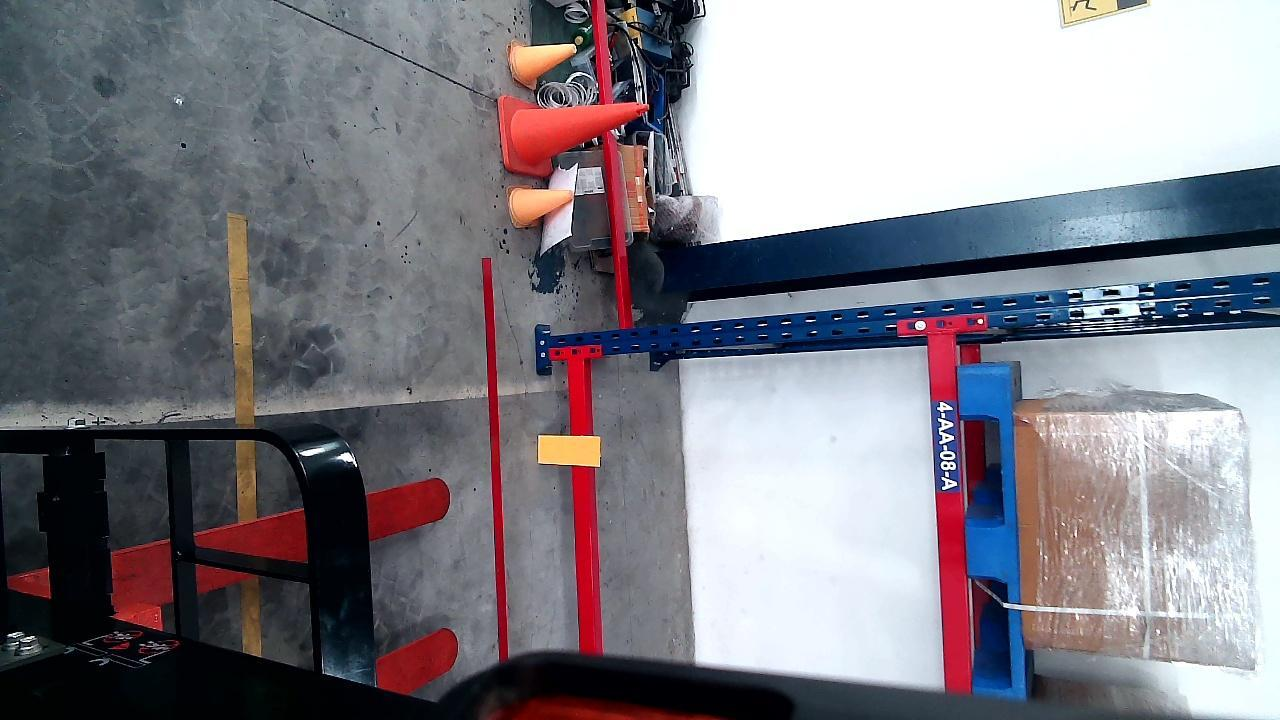red_line: (477, 260, 507, 663)
yellow_line: (232, 209, 260, 529)
